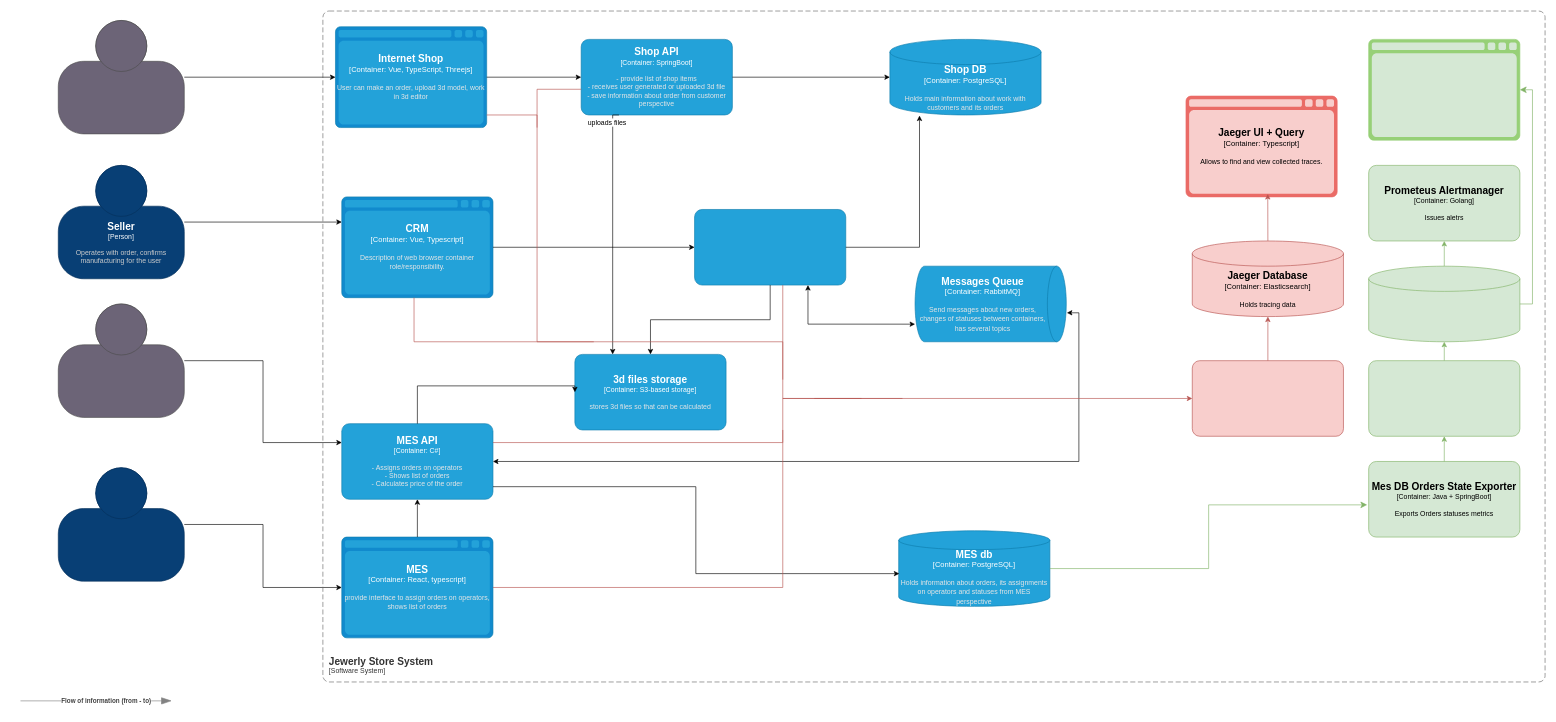
Image size: 1556x722. Some labels were removed from this diagram. Here are the shapes that lost their labels. From the top down, the centre of each, then its label:
[121,77]: Customer [Person] Description of external person.
[1444,89]: Grafana [Container: Typescript] Allows to find and view collected traces.
[770,247]: CRM API [Container: SpringBoot] Description of container role/responsibility.
[1444,304]: Prometheus Database [Container: TSDB] Prometheus TSDB
[121,360]: API user [Person] Description of external person.
[1267,398]: Jaeger Collector [Container: Golang] Traces collecting engine.
[1444,398]: Prometeus Server [Container: Golang] Stores metrics
[121,524]: Operator [Person] Takes order in work, manufactures jewerly
